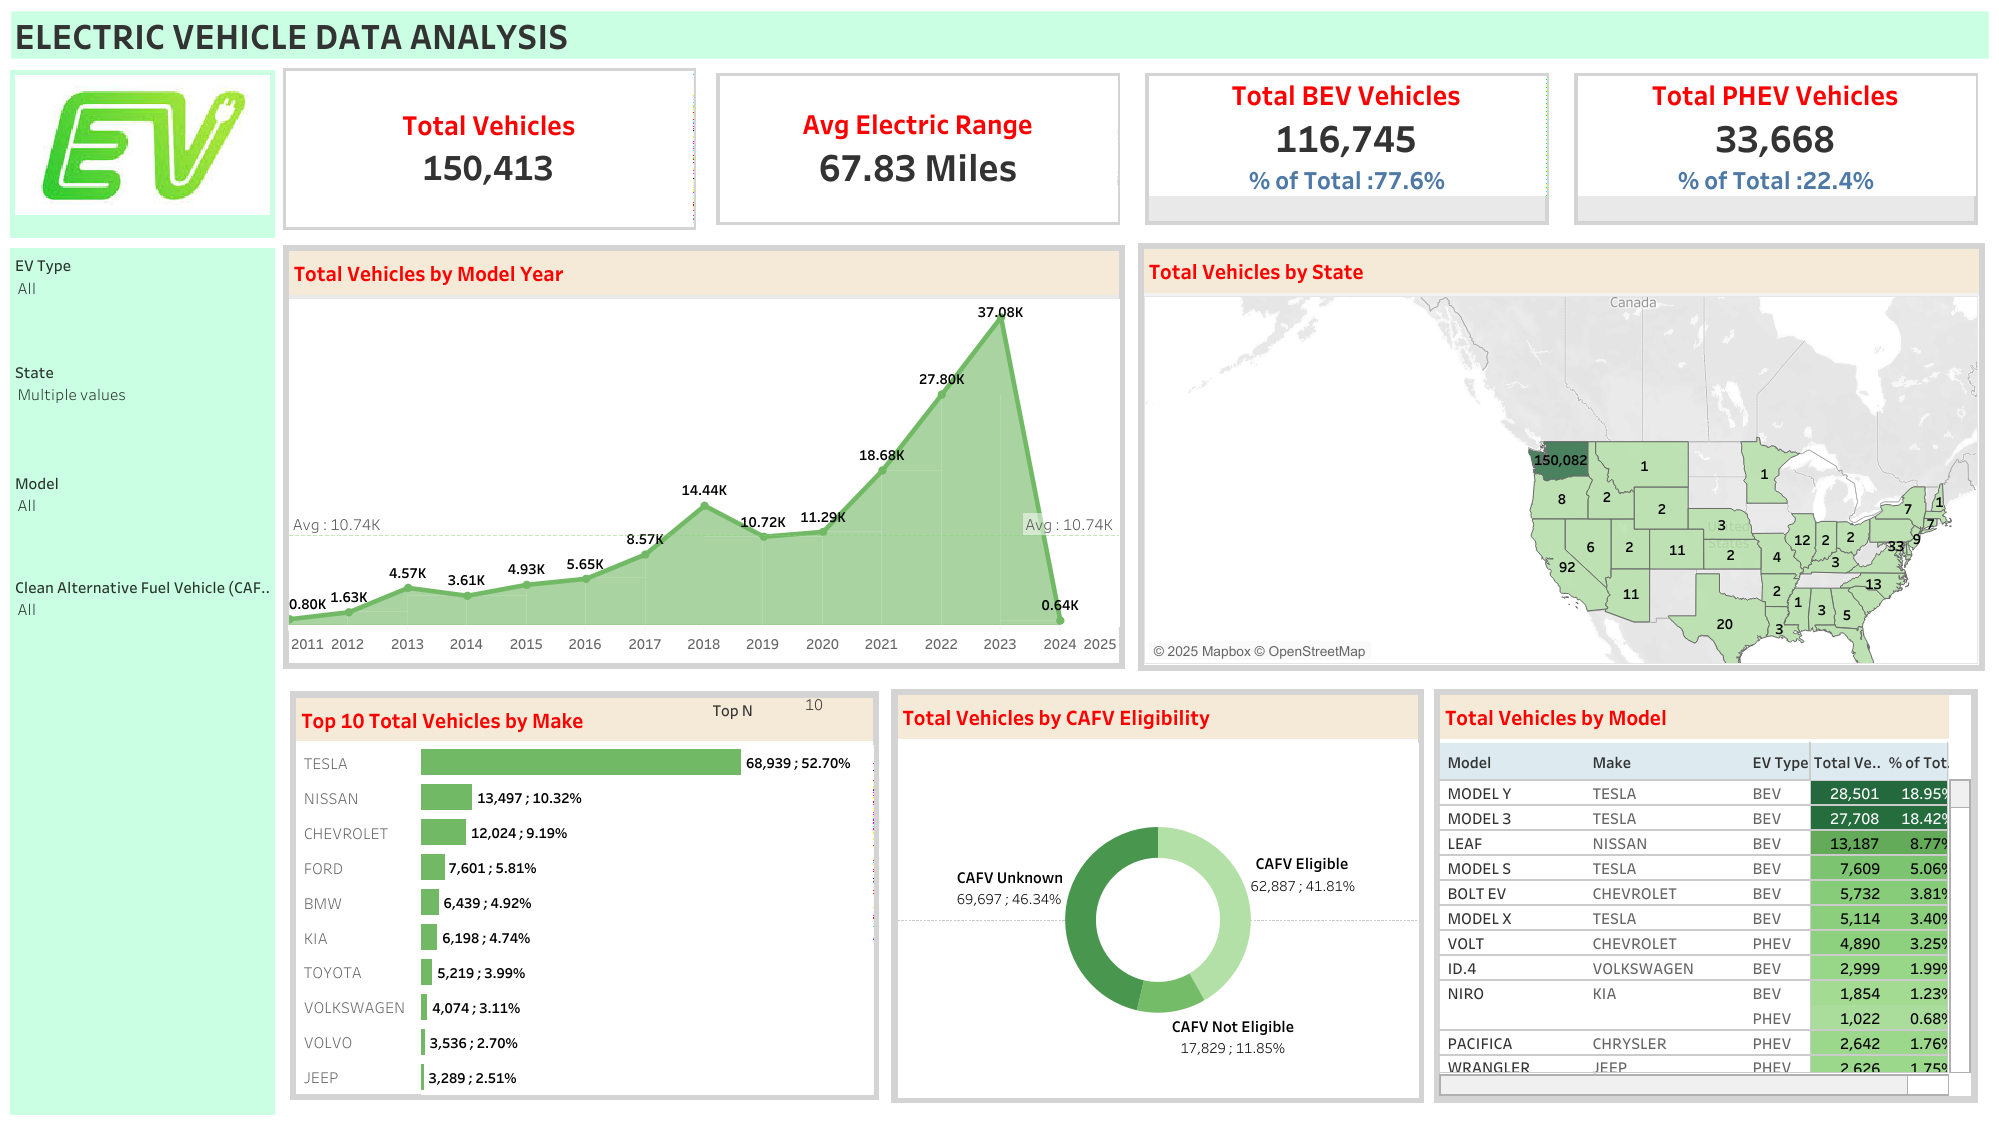

This screenshot's page, from the dashboard's own definition file:
{"tool":"tableau","page":{"name":"Electric Vehicle Data Anlalysis","canvas":[1600,900],"ordinal":0},"visuals":[{"type":"title","box":[8,8,1584,40]},{"type":"worksheet","title":"Total Vehicles","mark":"Automatic","box":[220,48,343,142.2]},{"type":"worksheet","title":"Avg Electric Range","mark":"Automatic","box":[563,48,343,142.2]},{"type":"worksheet","title":"Total BEV Vehicles","mark":"Automatic","box":[906,48,343,142.2]},{"type":"worksheet","title":"Total PHEV Vehicles ","mark":"Automatic","box":[1249,48,343,142.2]},{"type":"image","param":"Image/download.jpeg","box":[8,56,212,120]},{"type":"worksheet","title":"Total Vehicles by Model Year","mark":"Area","rows":["Calculation_132574738613043200","Calculation_132574738613043200"],"cols":["Model Year"],"box":[220,190.2,686,350.9]},{"type":"worksheet","title":"Total Vehicles by State","mark":"Multipolygon","box":[906,190.2,686,350.9]},{"type":"filter","title":"Top 10 Total Vehicles by Make","param":"[federated.04l225m1tccs96173gvmp0q4g4cb].[none:Electric Vehicle Type:nk]","box":[8,198,212,85]},{"type":"filter","title":"Top 10 Total Vehicles by Make","param":"[federated.04l225m1tccs96173gvmp0q4g4cb].[none:State:nk]","box":[8,283,212,89]},{"type":"filter","title":"Total Vehicles by Model Year","param":"[federated.04l225m1tccs96173gvmp0q4g4cb].[none:Model:nk]","box":[8,372,212,83]},{"type":"filter","title":"Total Vehicles by Model Year","param":"[federated.04l225m1tccs96173gvmp0q4g4cb].[none:Clean Alternative Fuel Vehicle (C","box":[8,455,212,74]},{"type":"worksheet","title":"Top 10 Total Vehicles by Make","mark":"Automatic","rows":["Make"],"cols":["Calculation_132574738613043200"],"box":[226,547.1,483,338.9]},{"type":"worksheet","title":"Total Vehicles by CAFV Eligibility","mark":"Pie","rows":["Calculation_394627942112784391","Calculation_394627942112784391"],"box":[709,547.1,390,338.9]},{"type":"worksheet","title":"Total Vehicles by Model","mark":"Square","rows":["Model","Make","Electric Vehicle Type"],"box":[1099,547.1,487,338.9]},{"type":"parameter","param":"[Parameters].[Parameter 1]","box":[570,554,117,28]}]}

Visuals, with their boxes in screenshot pixels (x1, y1, x2, y2), scaled from the page's 1600x900 canvas onto the 1999x1124 screenshot:
title: [10, 10, 1989, 60]
"Total Vehicles" worksheet: [275, 60, 703, 238]
"Avg Electric Range" worksheet: [703, 60, 1132, 238]
"Total BEV Vehicles" worksheet: [1132, 60, 1560, 238]
"Total PHEV Vehicles " worksheet: [1560, 60, 1989, 238]
image: [10, 70, 275, 220]
"Total Vehicles by Model Year" worksheet (Area marks): [275, 238, 1132, 676]
"Total Vehicles by State" worksheet (Multipolygon marks): [1132, 238, 1989, 676]
"Top 10 Total Vehicles by Make" filter: [10, 247, 275, 353]
"Top 10 Total Vehicles by Make" filter: [10, 353, 275, 465]
"Total Vehicles by Model Year" filter: [10, 465, 275, 568]
"Total Vehicles by Model Year" filter: [10, 568, 275, 661]
"Top 10 Total Vehicles by Make" worksheet: [282, 683, 886, 1107]
"Total Vehicles by CAFV Eligibility" worksheet (Pie marks): [886, 683, 1373, 1107]
"Total Vehicles by Model" worksheet (Square marks): [1373, 683, 1982, 1107]
parameter: [712, 692, 858, 727]
